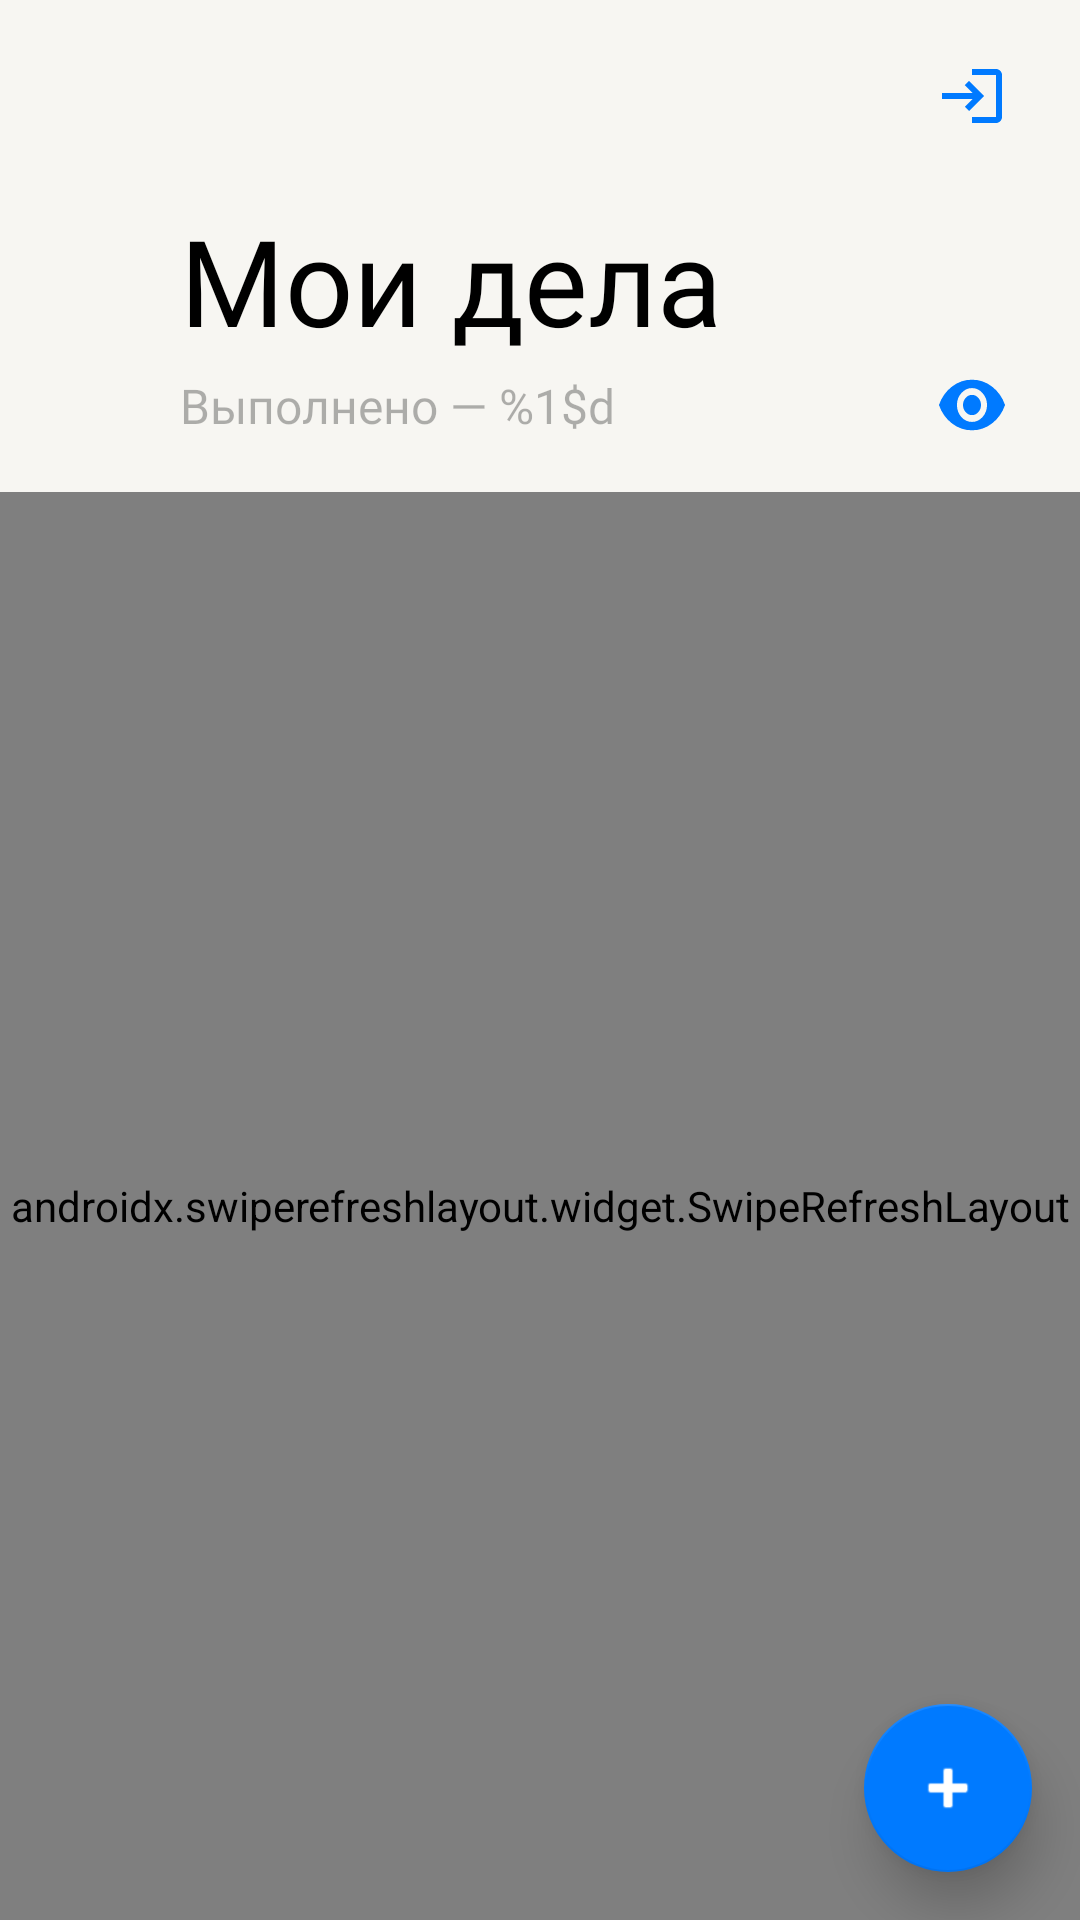

Locate icon controls on the screen. Image size 1080px×1920px, boxes as (x1, y1, x2, y2).
add: (864, 1704, 1032, 1872)
eye: (939, 379, 1005, 431)
login: (942, 69, 1002, 123)
